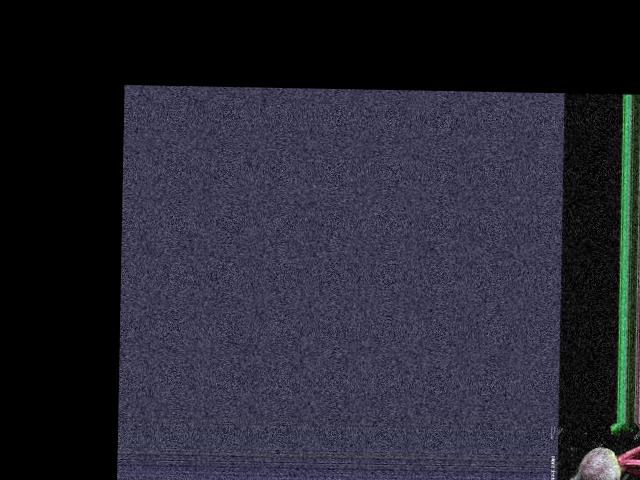beet: (566, 420, 640, 480)
